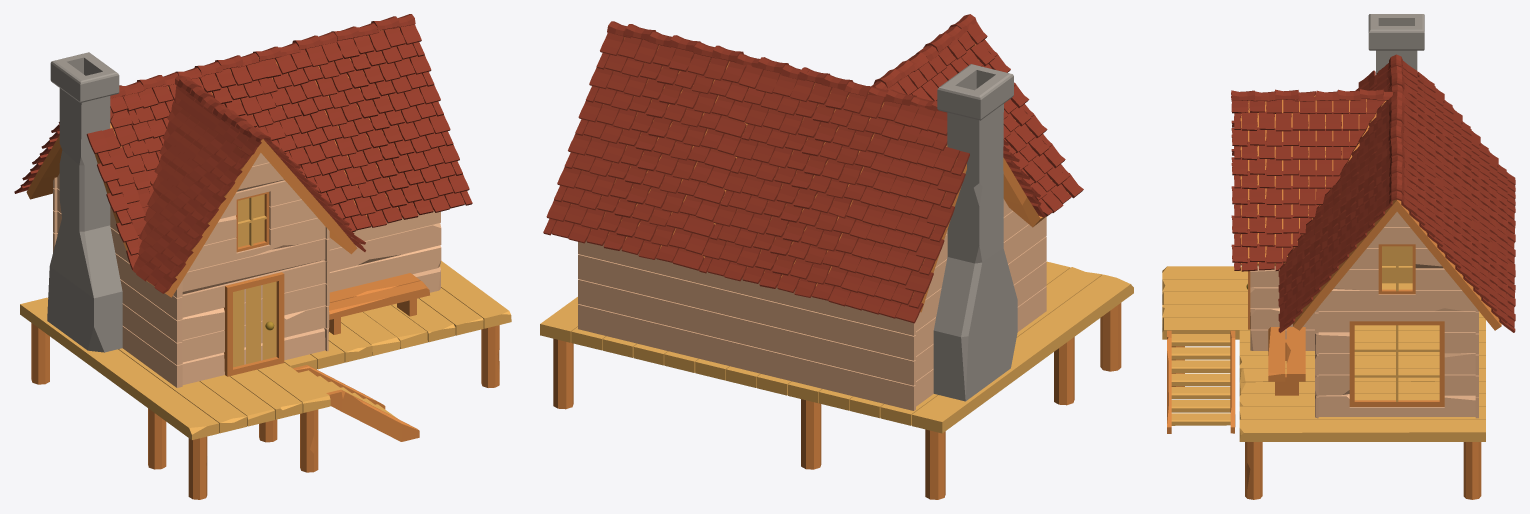
Rendered from Farm_House.fbx.
3 renders of one model, left to right at view 1: azimuth 30°, elevation 25°; view 2: azimuth 150°, elevation 25°; view 3: azimuth 270°, elevation 25°, orthographic. The views are drawn at different scales.
Parts seen in each view (by area): view 1: House; view 2: House; view 3: House.
Part boxes in pixels (left/top/right/bottom): House: left=14, top=14, right=511, bottom=499; House: left=540, top=14, right=1133, bottom=499; House: left=1162, top=14, right=1515, bottom=499.
Size of the model in its own units: 32.7 by 29.49 by 29.28.
